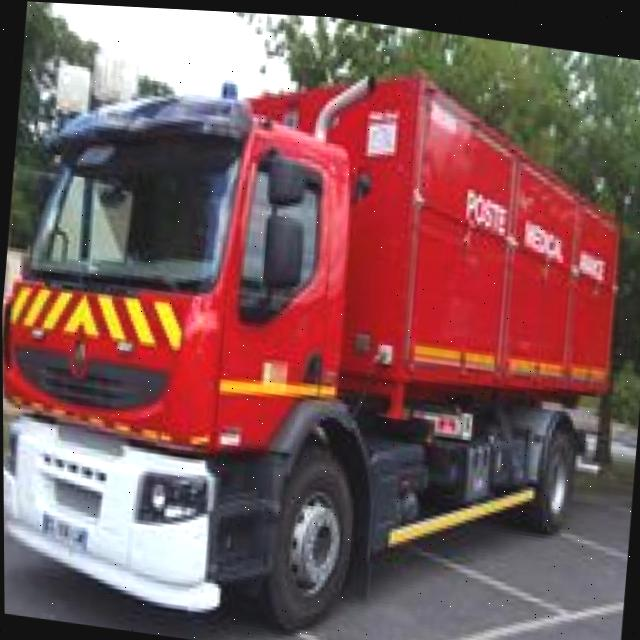emergency: (0, 20, 640, 640)
